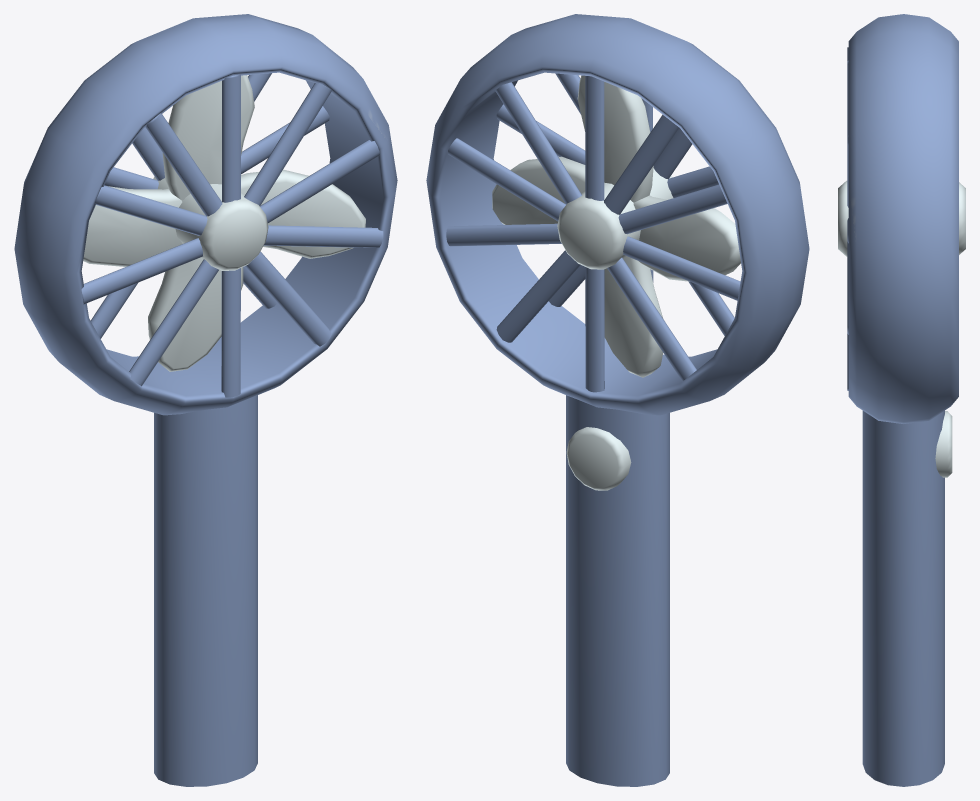
Rendered from HandventilatorLang.fbx.
3 renders of one model, left to right at view 1: azimuth 30°, elevation 25°; view 2: azimuth 150°, elevation 25°; view 3: azimuth 270°, elevation 25°, orthographic.
Parts seen in each view (by area): view 1: Base_Handventilator, Wieken; view 2: Base_Handventilator, Wieken; view 3: Base_Handventilator.
Part boxes in pixels (x1=…): Base_Handventilator: x1=14, y1=14, x2=397, y2=786; Wieken: x1=83, y1=75, x2=365, y2=371; Base_Handventilator: x1=426, y1=14, x2=809, y2=786; Wieken: x1=492, y1=75, x2=740, y2=377; Base_Handventilator: x1=838, y1=14, x2=965, y2=786.
Size of the model in its own units: 21.02 by 41.1 by 6.51.
1 material, 1 textured.
